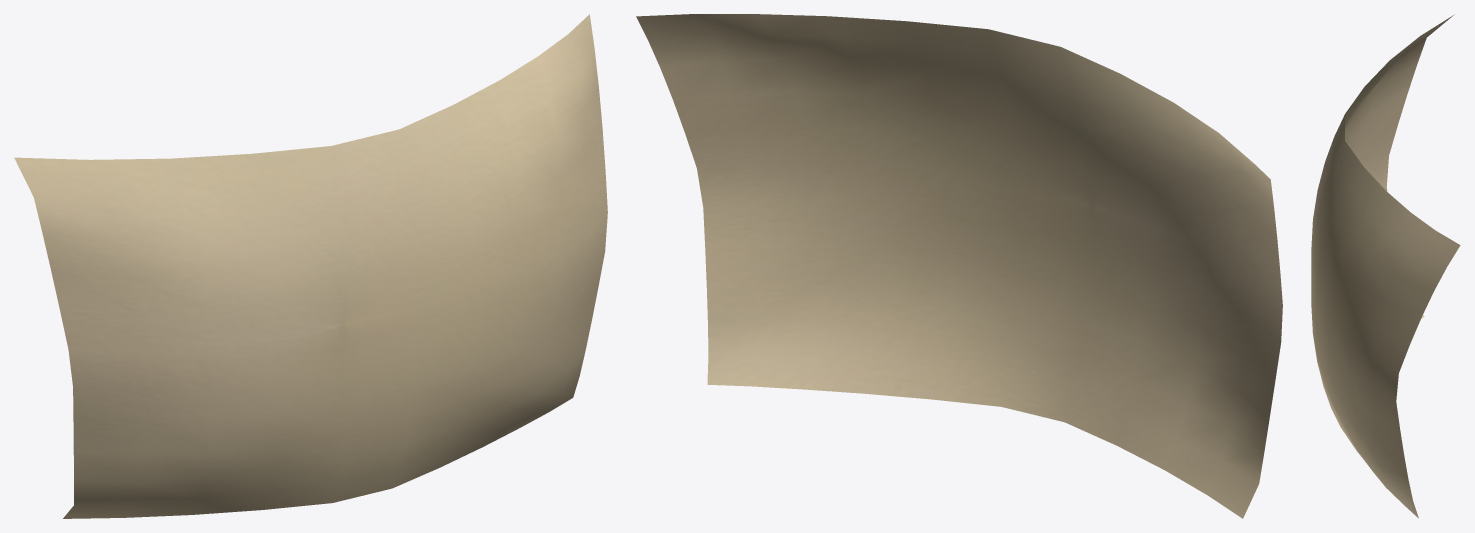
Rendered from pantallaTv.obj.
The picture shows the model from 3 angles, left to right: view 1: azimuth 30°, elevation 25°; view 2: azimuth 150°, elevation 25°; view 3: azimuth 270°, elevation 25°; orthographic projection. The views are drawn at different scales.
Visible parts, largest first — view 1: TelaFBXASC032tv; view 2: TelaFBXASC032tv; view 3: TelaFBXASC032tv.
Part boxes in pixels (left/top/right/bottom): TelaFBXASC032tv: left=14, top=14, right=607, bottom=518; TelaFBXASC032tv: left=636, top=14, right=1282, bottom=518; TelaFBXASC032tv: left=1311, top=15, right=1460, bottom=518.
Bounding box in the file's own units: 148 × 86.91 × 40.48.
1 material, 1 textured.
